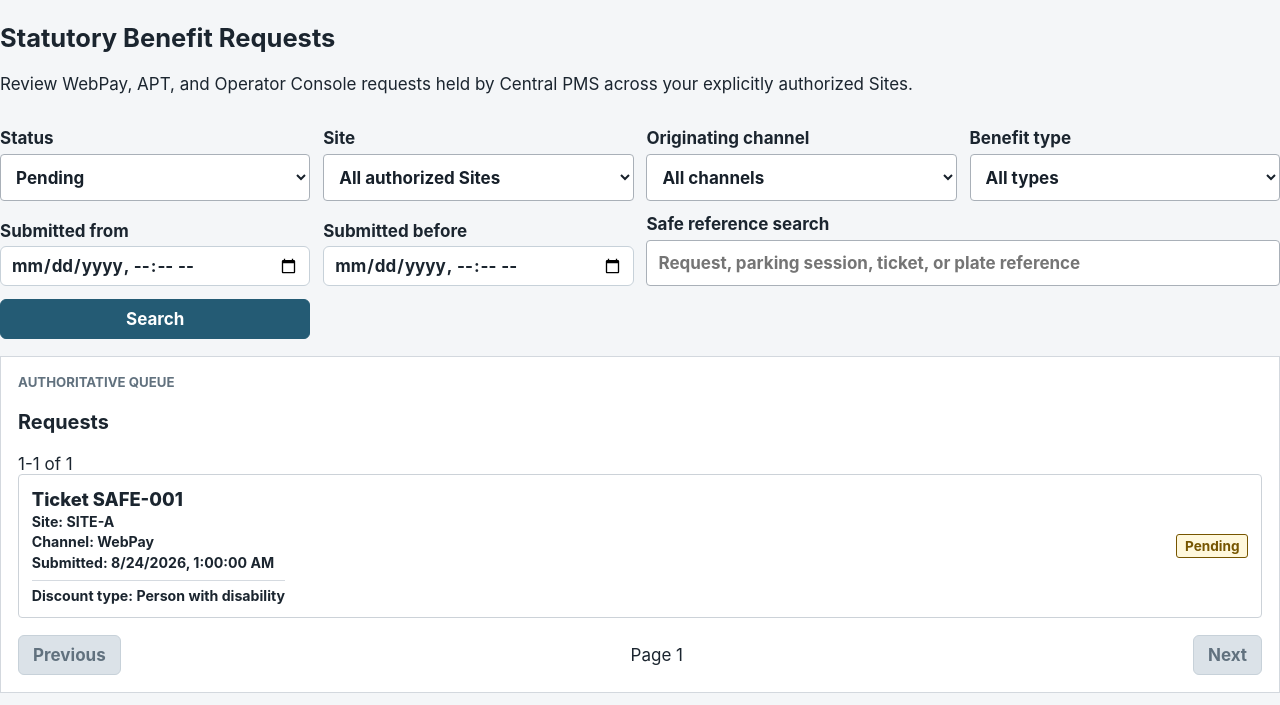
Test: Statutory Benefit Requests › shows finalized reviewed metadata masked and never renders the raw ID
Step 1. Click the button named "Person with disability" → (640, 546), box top-left (18, 474), bottom-right (1262, 618)
(page scrolled)
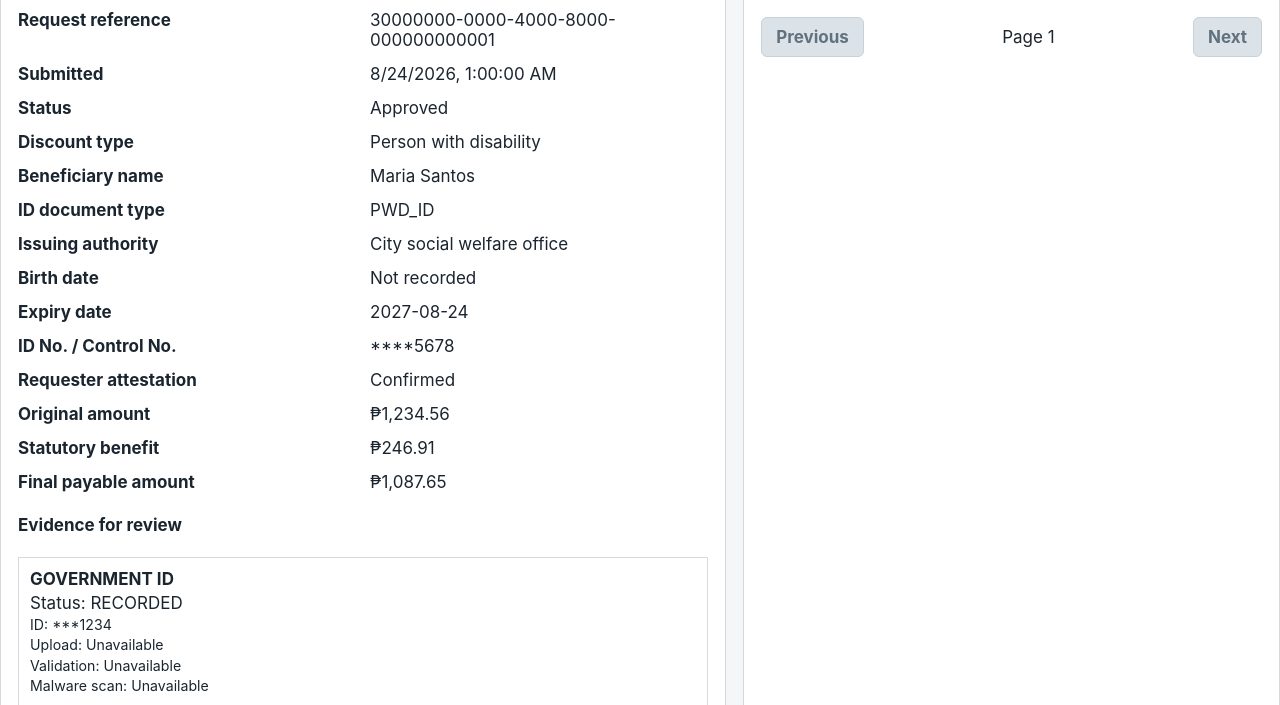
Result: the text "****5678" is shown at top-left (370, 336), bottom-right (454, 356)
